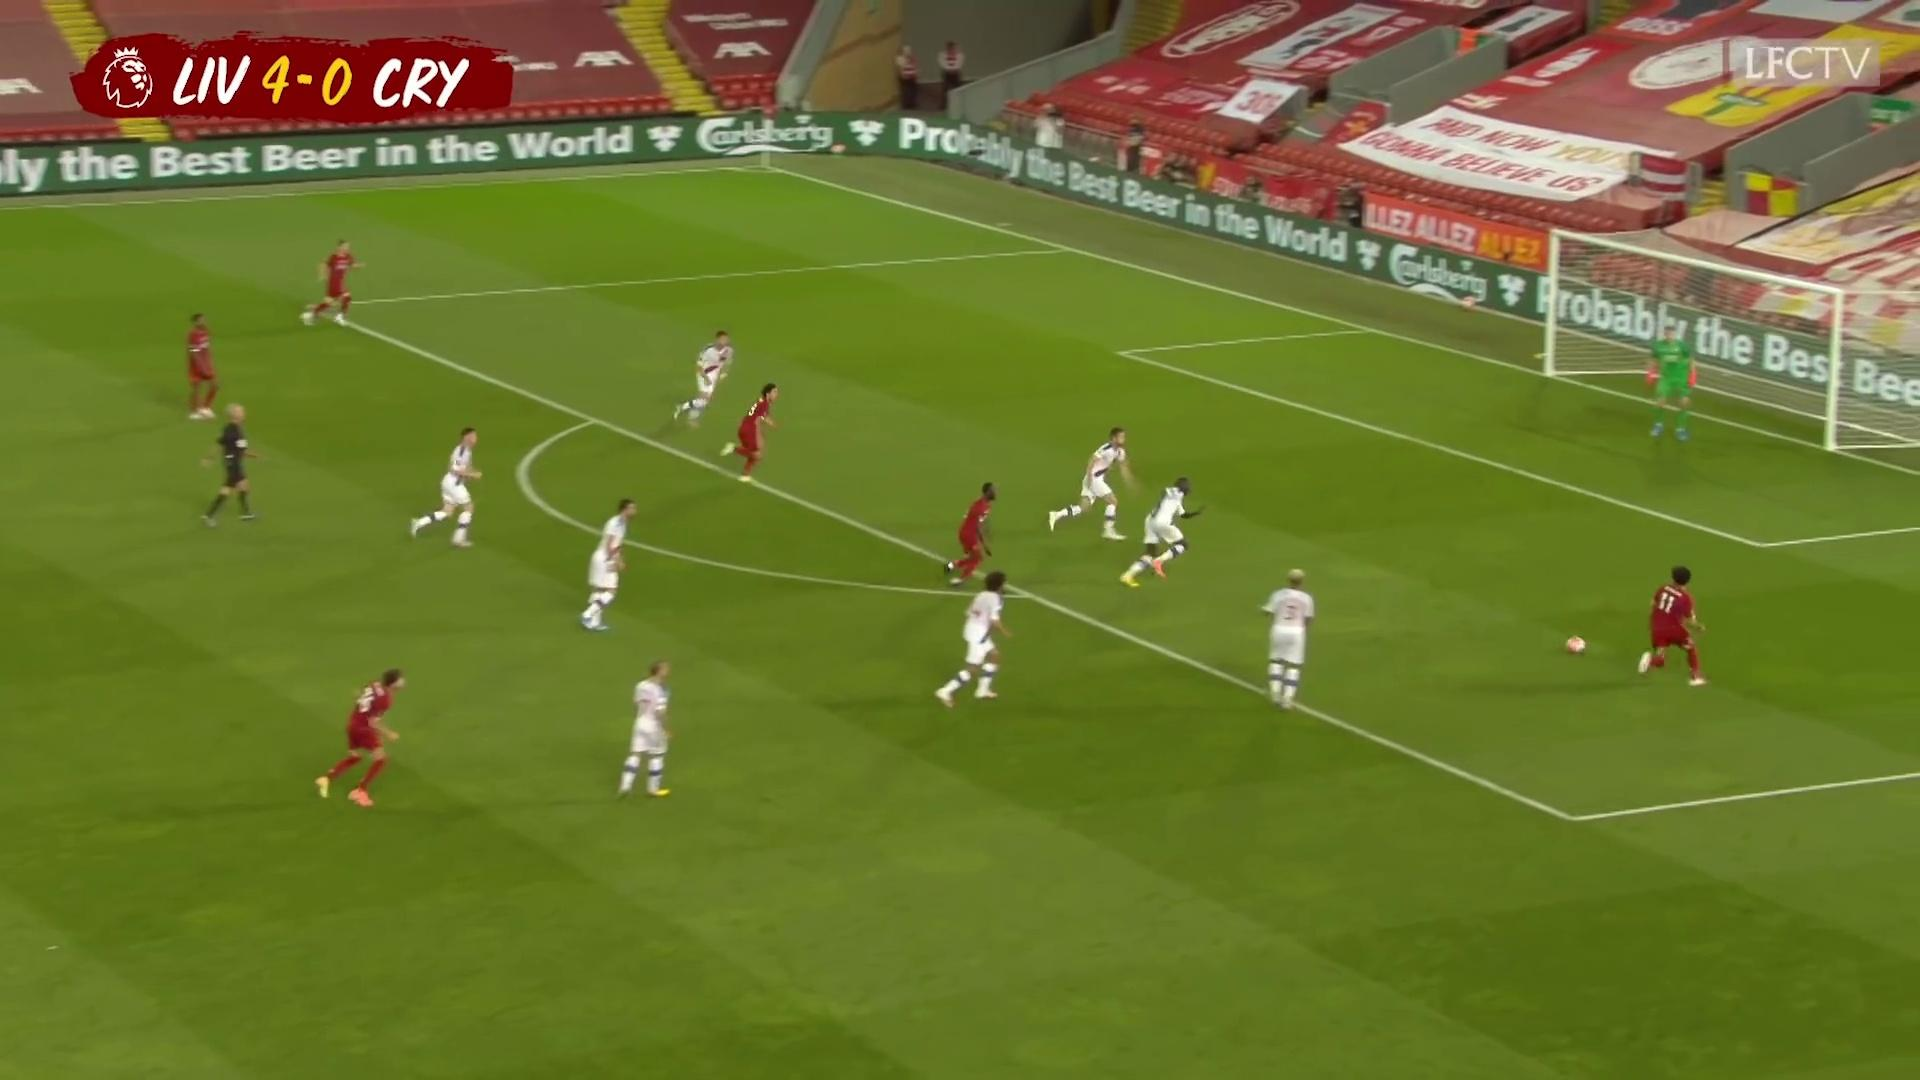ball: (1560, 633, 1591, 660), (1457, 294, 1480, 311), (830, 139, 847, 160)
goalkeeper: (1645, 325, 1703, 445)
player: (316, 664, 414, 811), (940, 572, 1022, 713), (1049, 422, 1142, 543), (1635, 561, 1717, 693), (408, 423, 490, 551), (1122, 470, 1207, 589), (616, 658, 683, 804), (1258, 568, 1322, 718), (575, 498, 643, 636), (671, 328, 739, 433), (303, 236, 374, 335), (719, 379, 783, 486), (953, 478, 1008, 590), (179, 306, 224, 424)
referee: (197, 398, 258, 531)
